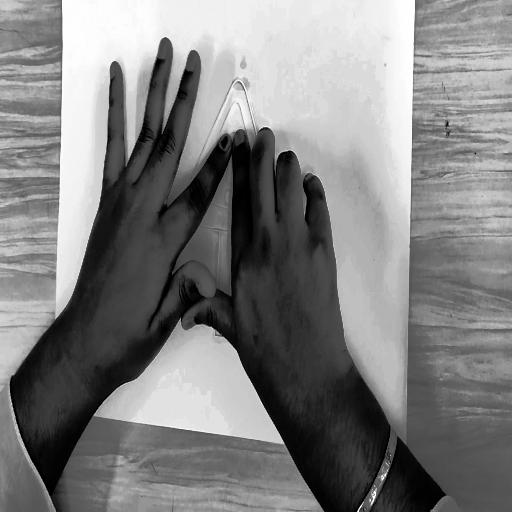bottom_left: (48, 401, 58, 422)
bottom_right: (399, 442, 413, 469)
signboard: (170, 62, 296, 353)
